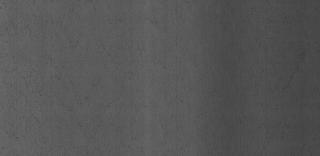silk spot: (21, 22, 93, 112)
